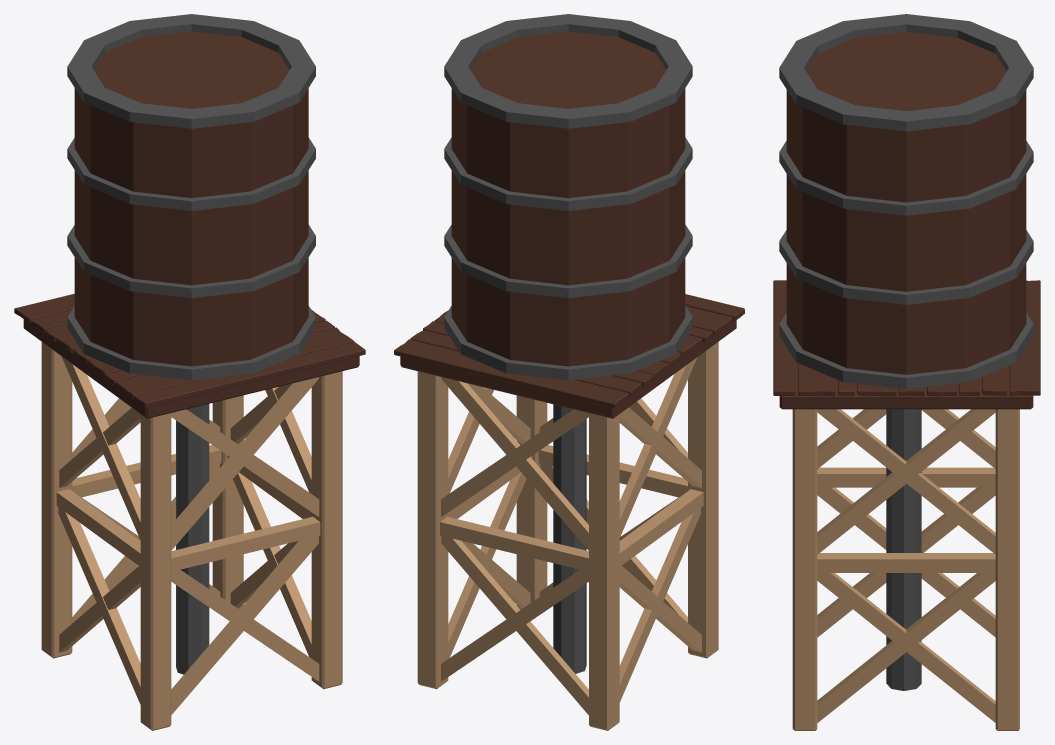
The model's file is water-tank.glb.
3 views of the same model, side by side, from view 1: azimuth 30°, elevation 25°; view 2: azimuth 150°, elevation 25°; view 3: azimuth 270°, elevation 25° (orthographic). The views are drawn at different scales.
Visible parts, largest first — view 1: Water Tank (×3); view 2: Water Tank (×3); view 3: Water Tank (×3).
Part boxes in pixels (left/top/right/bottom): Water Tank (×3): left=14, top=14, right=365, bottom=730; Water Tank (×3): left=394, top=14, right=744, bottom=730; Water Tank (×3): left=773, top=14, right=1040, bottom=730.
Size of the model in its own units: 2.2 by 5.68 by 2.23.
